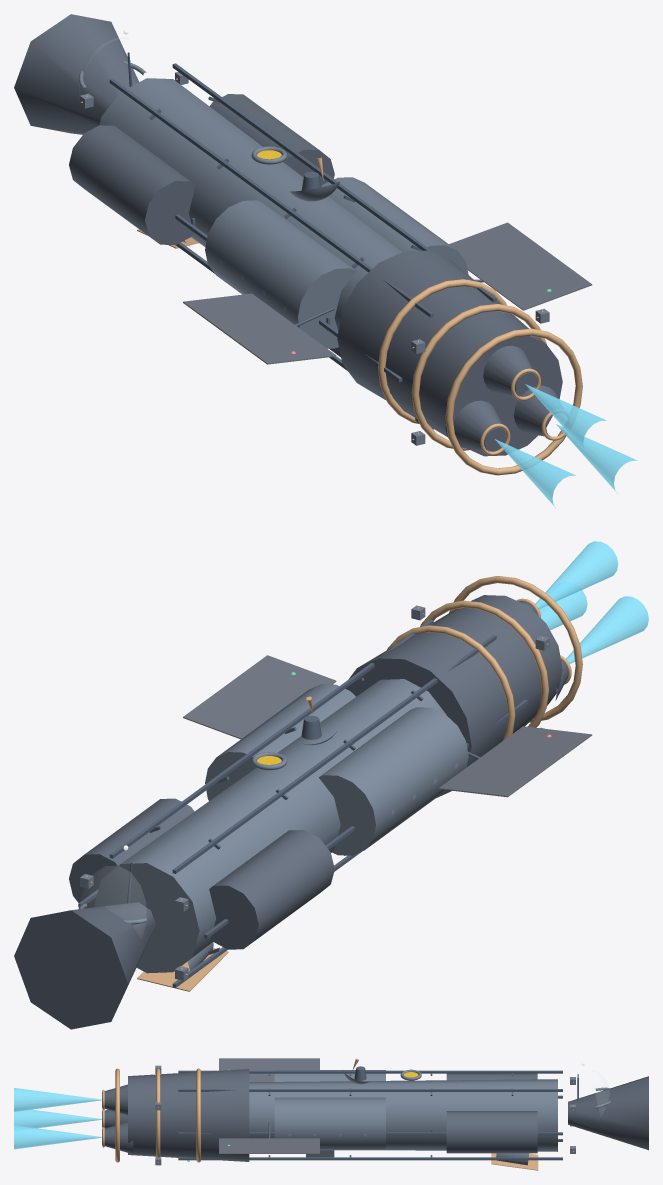
The model's file is kronox_120m_cruiser.glb.
The picture shows the model from 3 angles, top to bottom: view 1: azimuth 30°, elevation 25°; view 2: azimuth 150°, elevation 25°; view 3: azimuth 270°, elevation 25°; orthographic projection. The views are drawn at different scales.
Parts seen in each view (by area): view 1: EngineeringModule_AftCore, StructuralSpine_Core, HabitatModule_CrewQuarters, ScienceModules_ResearchPods, RadiatorThermalArrays, CommandModule_Bow, EngineCluster_Nozzles; view 2: StructuralSpine_Core, EngineeringModule_AftCore, HabitatModule_CrewQuarters, CommandModule_Bow, ScienceModules_ResearchPods, RadiatorThermalArrays, EngineCluster_Nozzles; view 3: StructuralSpine_Core, EngineeringModule_AftCore, HabitatModule_CrewQuarters, ScienceModules_ResearchPods, EngineCluster_Nozzles, CommandModule_Bow, RadiatorThermalArrays.
Part boxes in pixels (<box>): EngineeringModule_AftCore: <box>80,72,582,475</box>; StructuralSpine_Core: <box>99,63,496,429</box>; HabitatModule_CrewQuarters: <box>205,177,468,357</box>; ScienceModules_ResearchPods: <box>69,94,334,248</box>; RadiatorThermalArrays: <box>183,222,592,364</box>; CommandModule_Bow: <box>14,14,146,134</box>; EngineCluster_Nozzles: <box>445,345,637,508</box>; StructuralSpine_Core: <box>78,619,527,987</box>; EngineeringModule_AftCore: <box>80,576,582,980</box>; HabitatModule_CrewQuarters: <box>205,684,468,855</box>; CommandModule_Bow: <box>14,862,155,1029</box>; ScienceModules_ResearchPods: <box>69,798,334,991</box>; RadiatorThermalArrays: <box>183,655,592,797</box>; EngineCluster_Nozzles: <box>516,541,648,700</box>; StructuralSpine_Core: <box>178,1069,562,1160</box>; EngineeringModule_AftCore: <box>115,1065,575,1165</box>; HabitatModule_CrewQuarters: <box>274,1070,385,1157</box>; ScienceModules_ResearchPods: <box>446,1073,538,1170</box>; EngineCluster_Nozzles: <box>14,1084,133,1154</box>; CommandModule_Bow: <box>568,1070,648,1150</box>; RadiatorThermalArrays: <box>219,1058,319,1153</box>.
Size of the model in its own units: 44.45 by 23.71 by 126.
